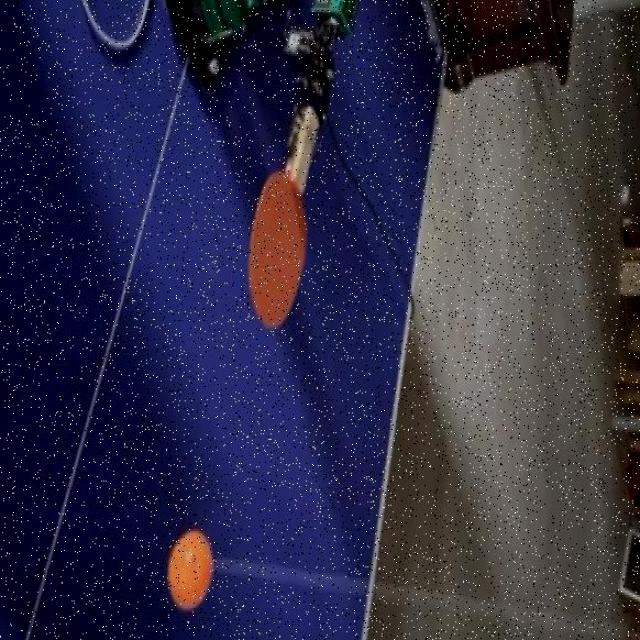ping-pong-ball: (170, 528, 214, 610)
